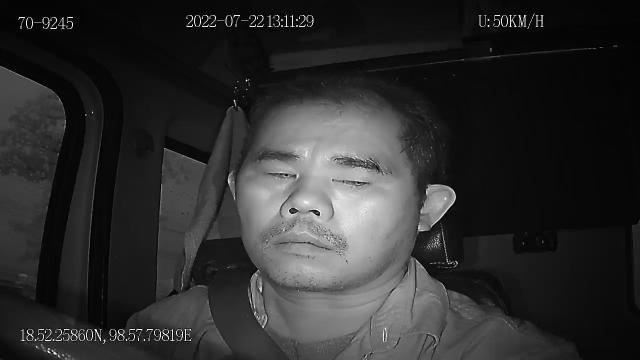SafeDriving: (323, 159, 386, 195), (250, 154, 306, 188)
Seatbelt: (206, 268, 292, 360)
